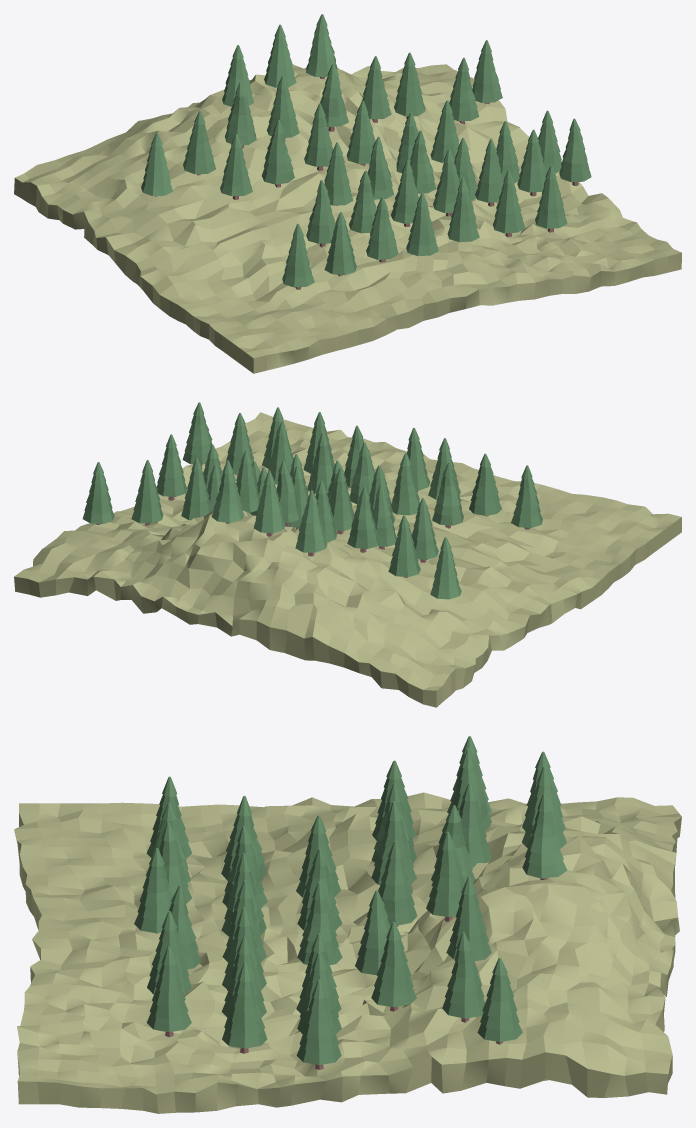
The model's file is lowpolytrees_mo.fbx.
3 views of the same model, one above another, from view 1: azimuth 30°, elevation 25°; view 2: azimuth 150°, elevation 25°; view 3: azimuth 270°, elevation 25° (orthographic). The views are drawn at different scales.
Parts seen in each view (by area): view 1: ground, pCylinder2 (×38); view 2: ground, pCylinder2 (×32); view 3: ground, pCylinder2 (×36).
Boxes of the visible parts, left/top/right/bottom form: ground: left=14, top=64, right=681, bottom=373; pCylinder2 (×38): left=141, top=14, right=591, bottom=287; ground: left=14, top=412, right=681, bottom=707; pCylinder2 (×32): left=82, top=402, right=542, bottom=599; ground: left=14, top=792, right=681, bottom=1113; pCylinder2 (×36): left=134, top=749, right=567, bottom=1065.
Size of the model in its own units: 15.19 by 5.37 by 14.85.
